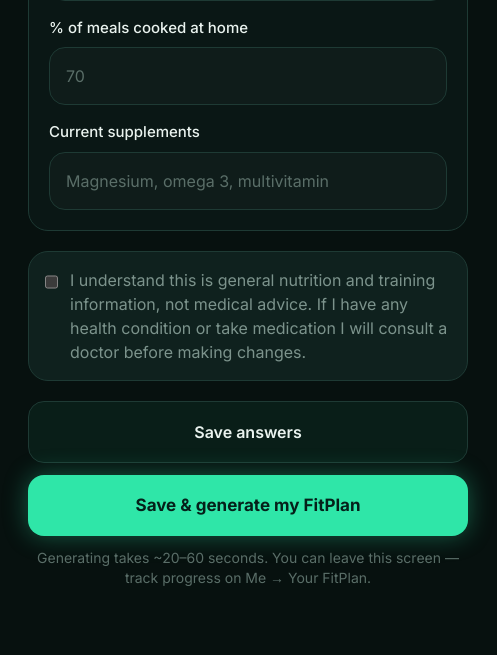
Test: the medical-advice acknowledgement › blocks generation until the box is ticked
The width and height of the screenshot is (497, 655).
(page scrolled)
Click the button "Save & generate my FitPlan" at [248, 505], box [28, 474, 468, 536]
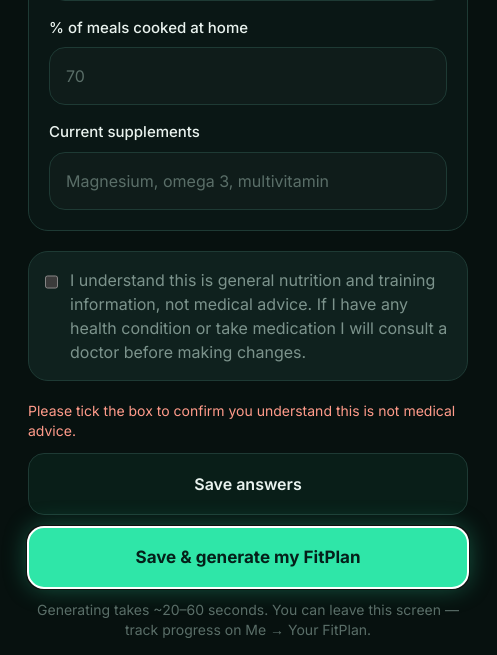
Check: the text "tick the box" is shown, box [28, 402, 455, 438]
